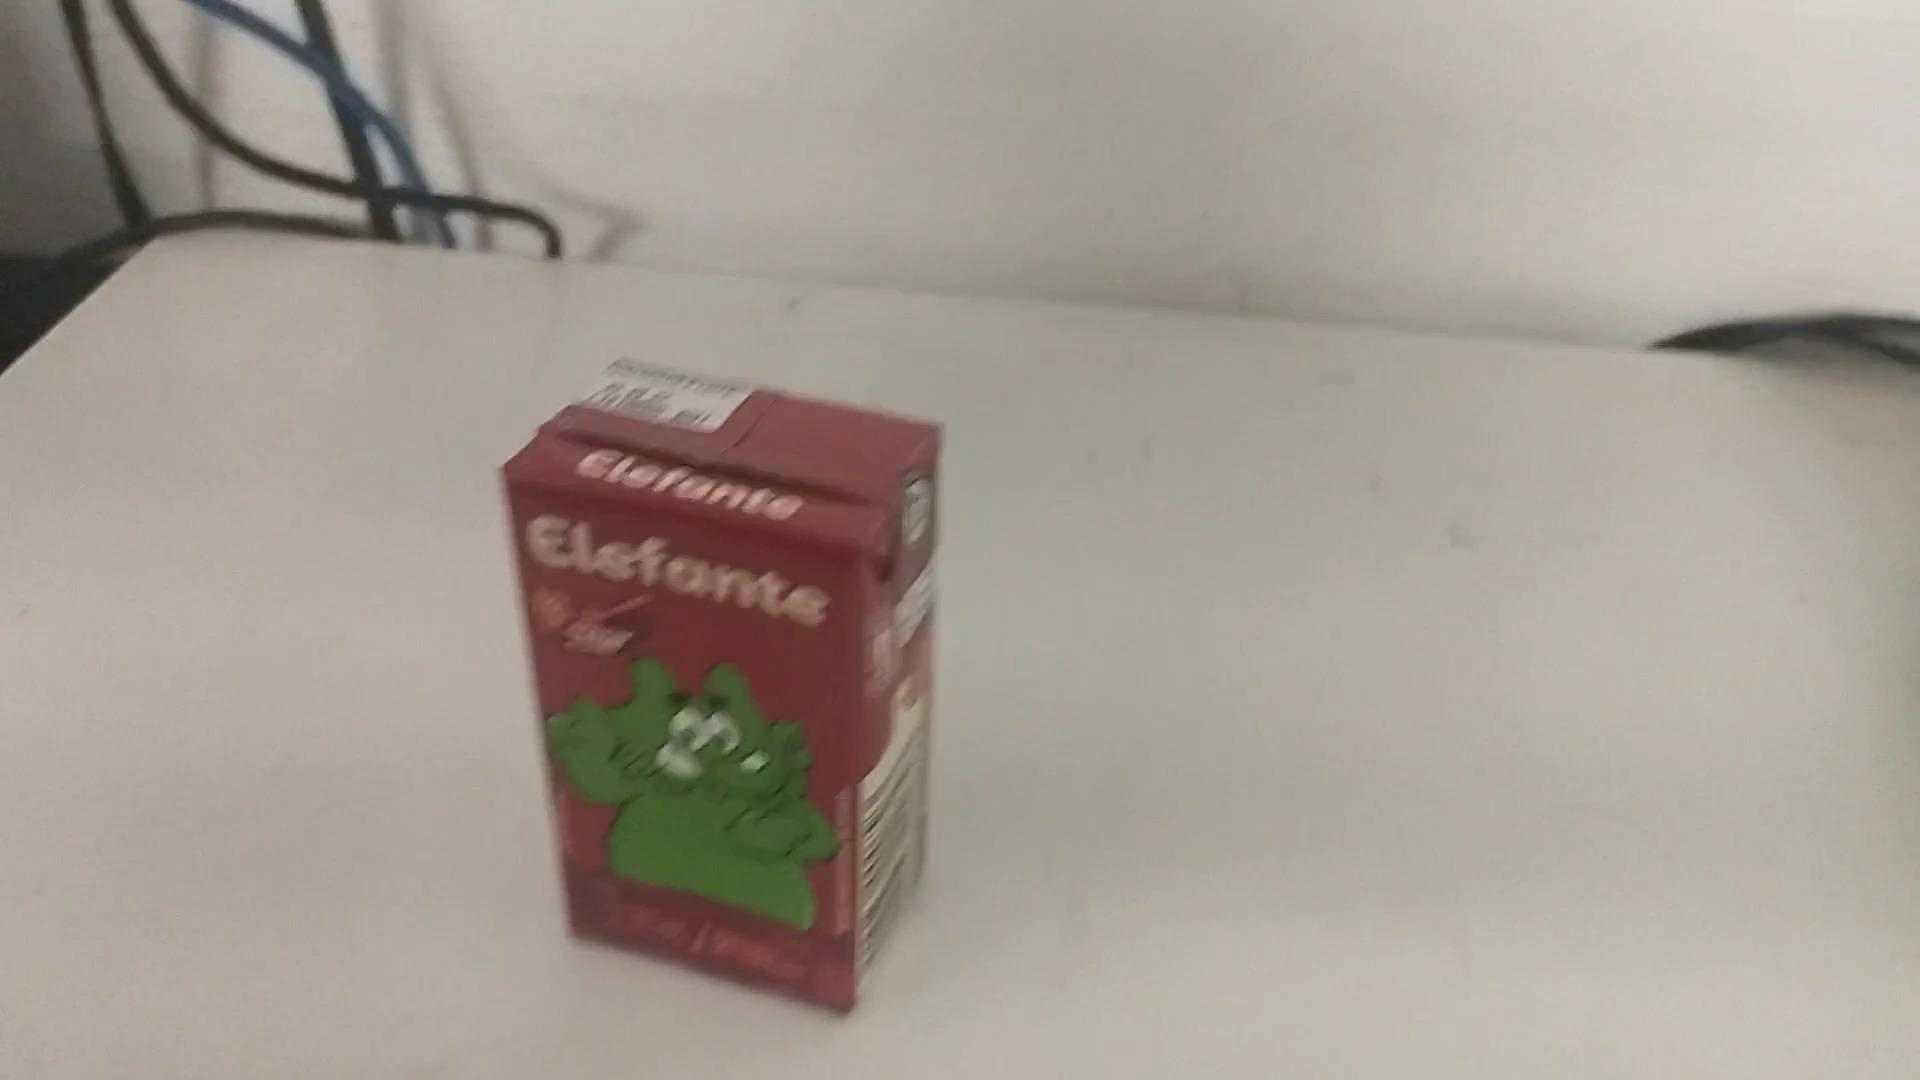tomate: (488, 351, 951, 1011)
